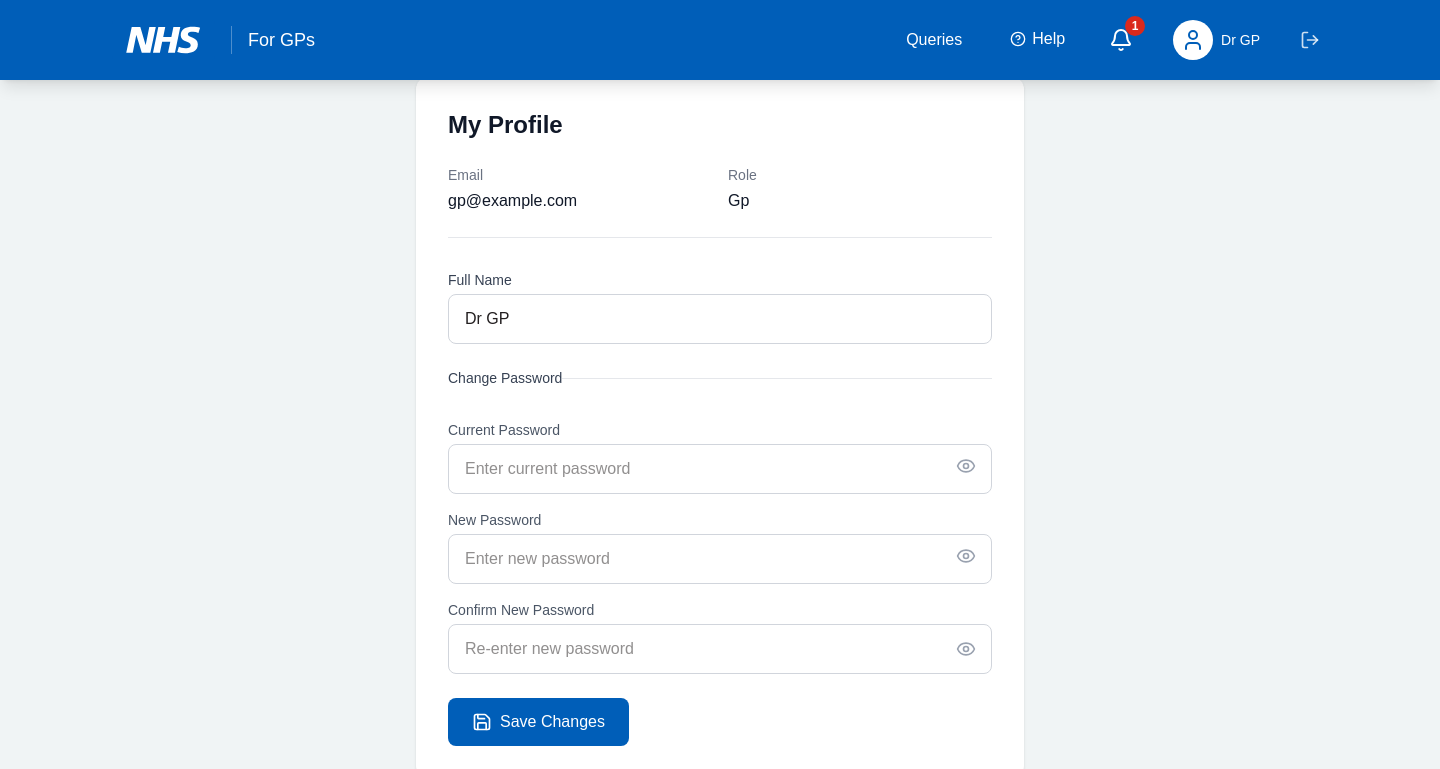
Test: ProfilePage › loads the profile and shows a no-changes message
(page scrolled)
Check: the heading "My Profile" is shown, box [448, 111, 563, 138]
What coordinates should you click on to do the following:
click the button "Save Changes"
I would click on:
 (538, 722)
Its box is [448, 698, 629, 746].
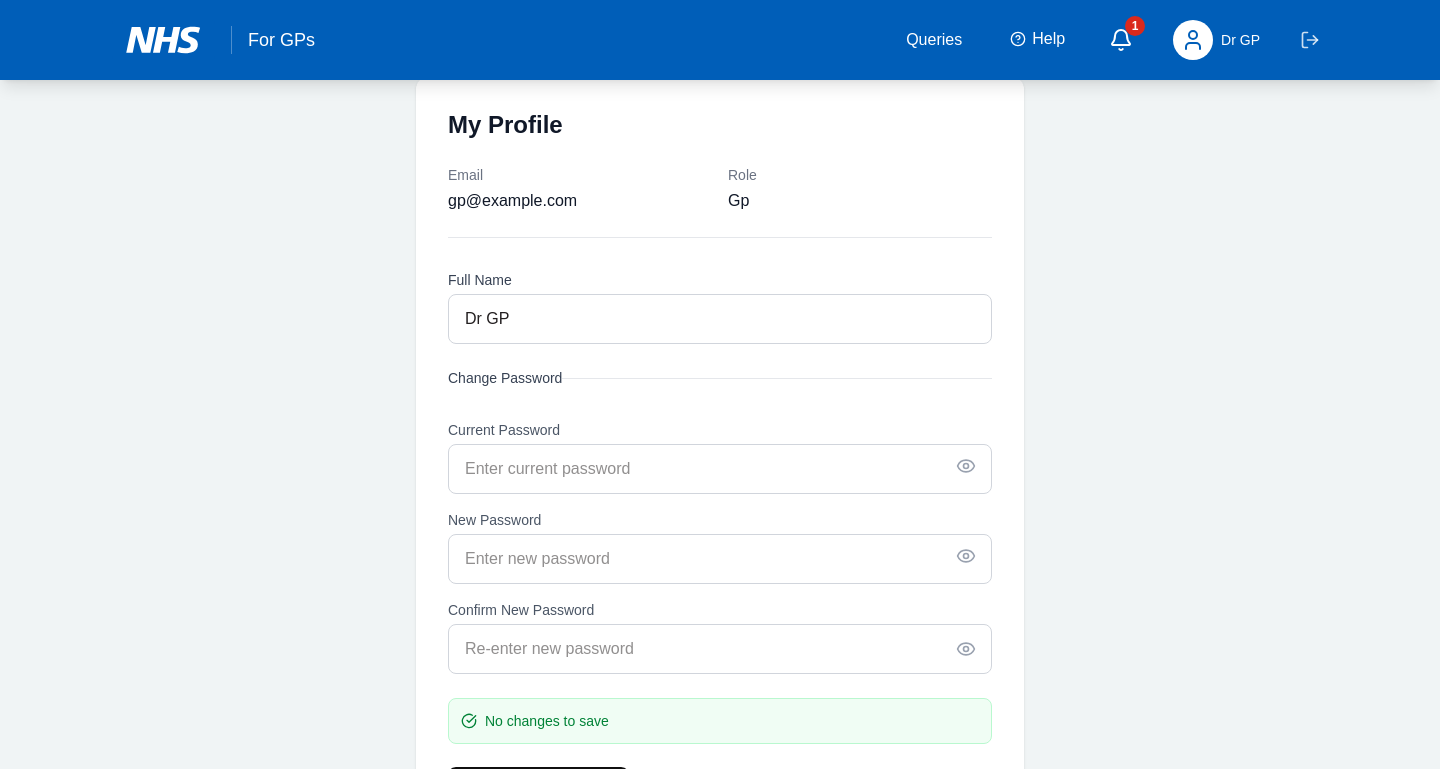
Check: the text "No changes to save" is shown, box [448, 698, 992, 744]
